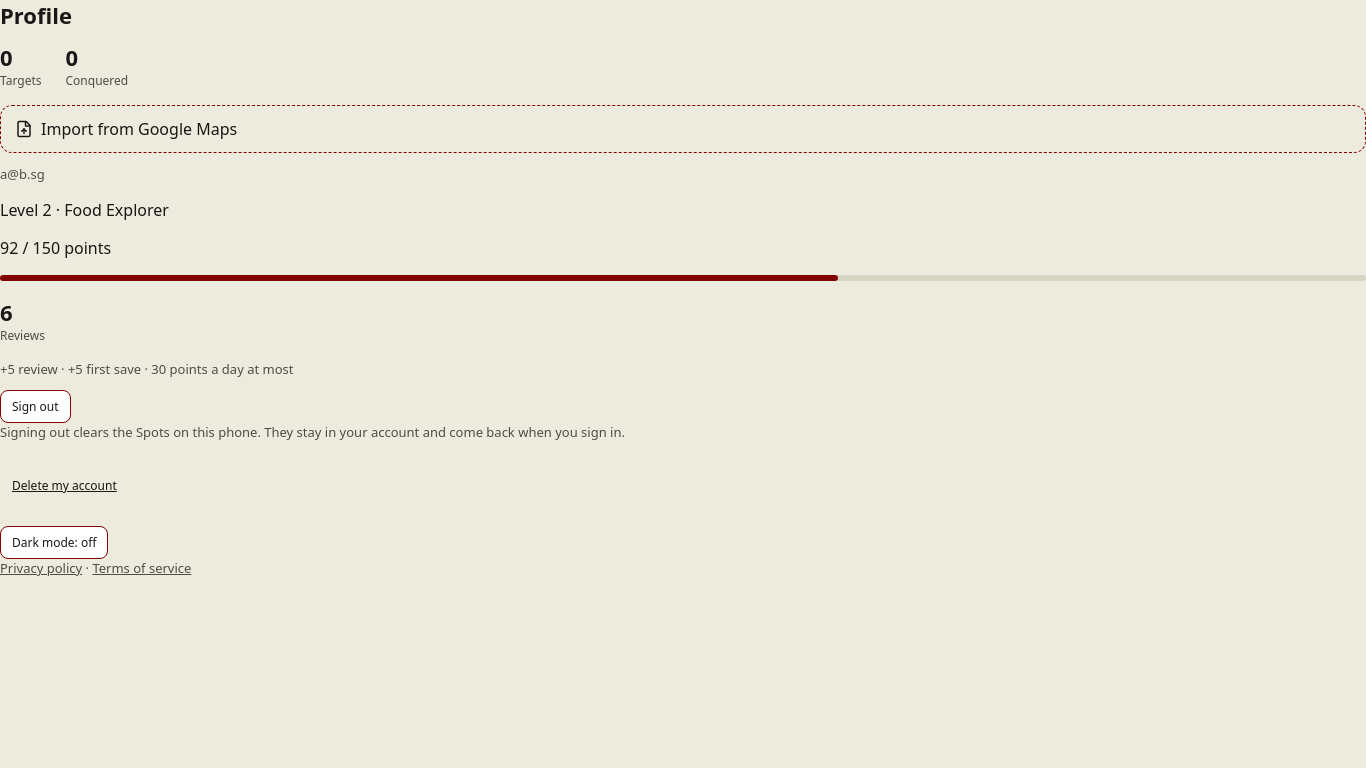
Scenario: deleting the account › Cancel closes the confirmation without deleting
Click the button "Delete my account": {"x": 64, "y": 486} [0, 469, 129, 502]
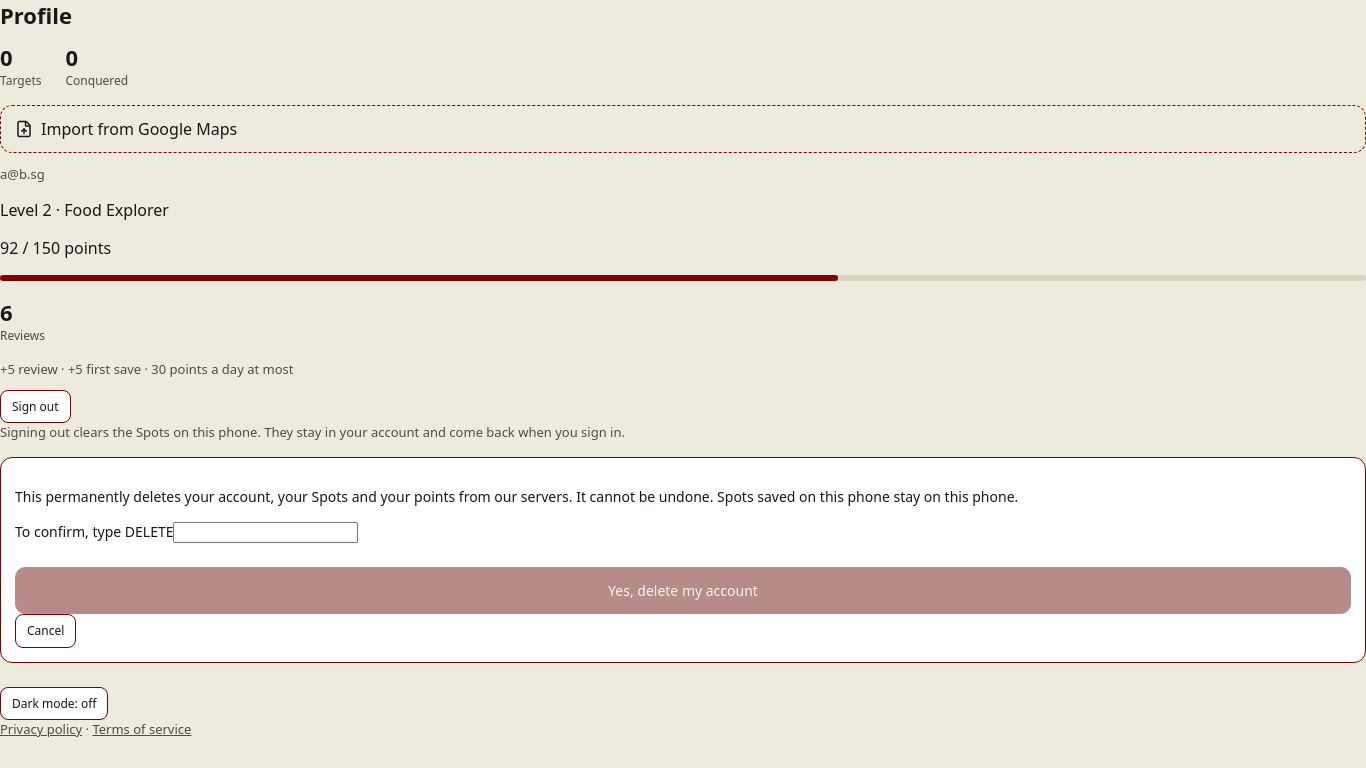
Click the button "Cancel": {"x": 46, "y": 631} [15, 614, 76, 648]
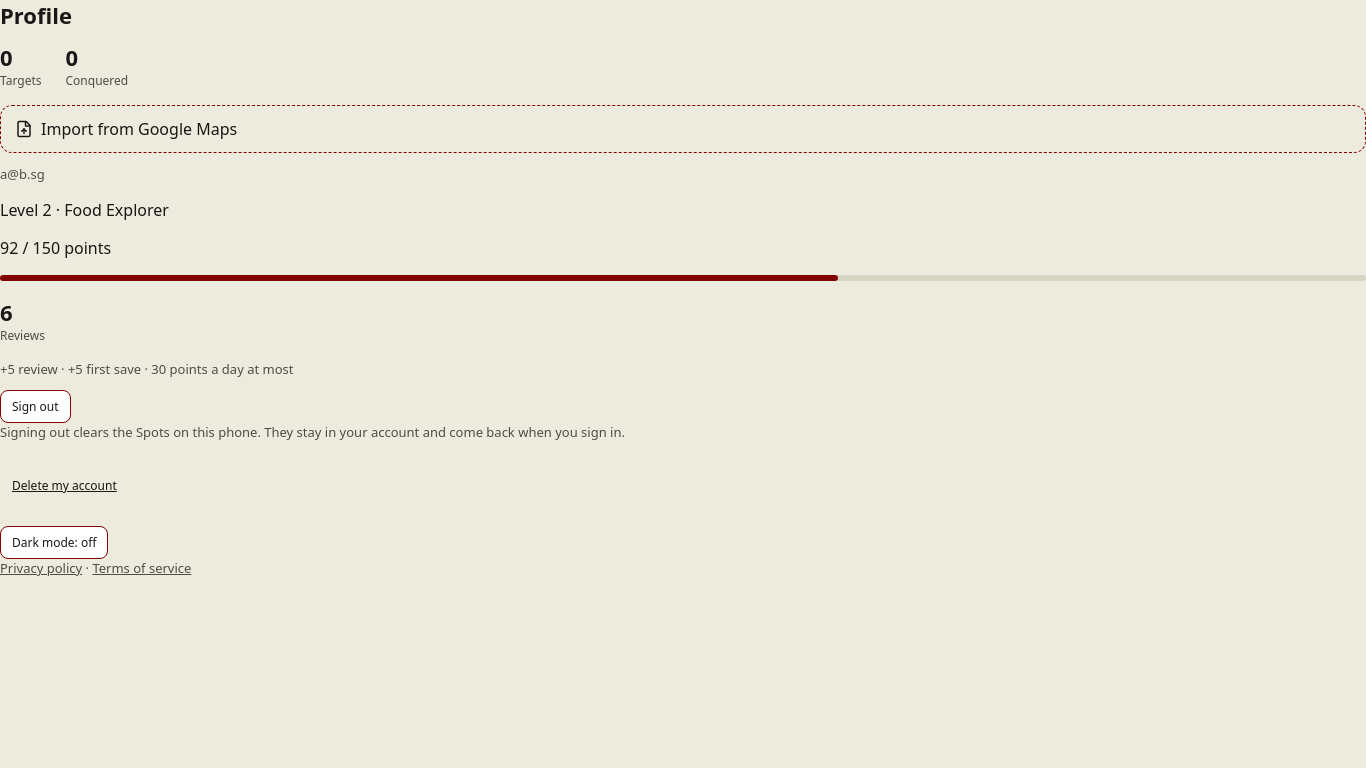
expect the dialog is gone: met
